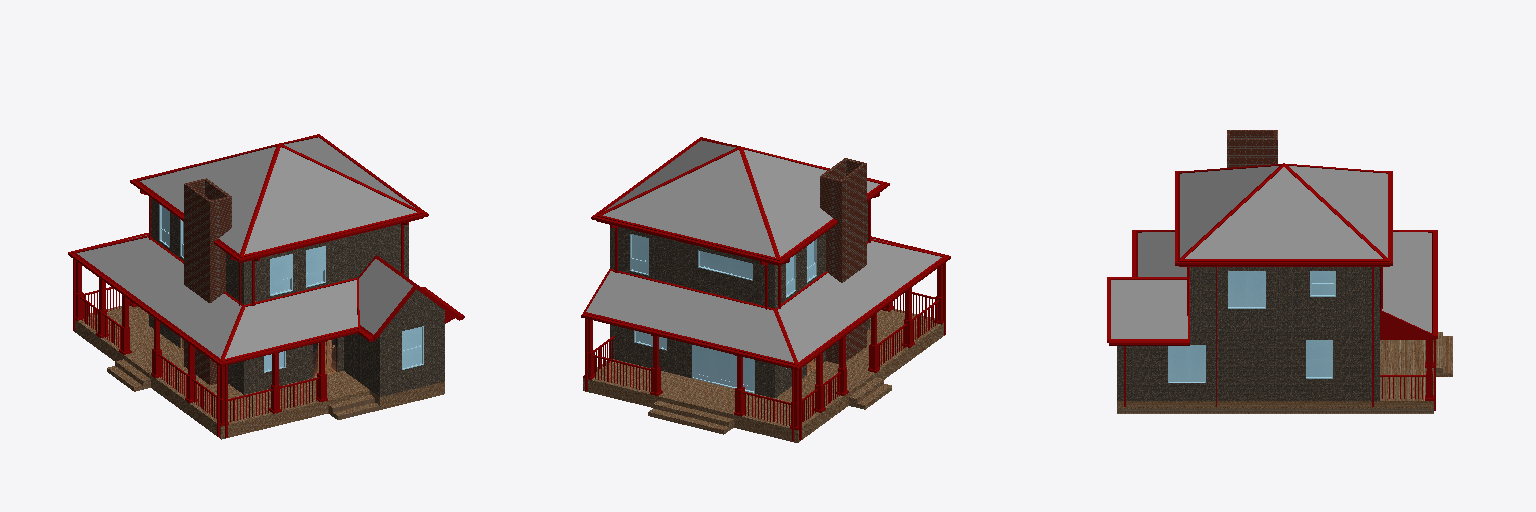
3 views of the same model, side by side, from view 1: azimuth 30°, elevation 25°; view 2: azimuth 150°, elevation 25°; view 3: azimuth 270°, elevation 25° (orthographic).
Visible parts, largest first — view 1: 247obj05, 247obj32, 247obj07, 247obj09, 247obj01, 247obj34, 247obj06, 247obj28, 247obj02, 247obj31, 247obj04, 247obj30 (+6 smaller); view 2: 247obj32, 247obj05, 247obj07, 247obj34, 247obj01, 247obj06, 247obj09, 247obj02, 247obj16, 247obj30, 247obj31, 247obj04 (+4 smaller); view 3: 247obj05, 247obj09, 247obj01, 247obj07, 247obj32, 247obj28, 247obj02, 247obj06, 247obj20, 247obj04, 247obj18, 247obj17 (+7 smaller).
Boxes of the visible parts, x1=… form: 247obj05: x1=140, y1=137, x2=416, y2=254; 247obj32: x1=77, y1=235, x2=357, y2=358; 247obj07: x1=74, y1=306, x2=444, y2=439; 247obj09: x1=149, y1=289, x2=444, y2=396; 247obj01: x1=151, y1=198, x2=408, y2=304; 247obj34: x1=75, y1=261, x2=327, y2=426; 247obj06: x1=184, y1=178, x2=231, y2=384; 247obj28: x1=359, y1=259, x2=412, y2=334; 247obj02: x1=135, y1=135, x2=423, y2=257; 247obj31: x1=72, y1=234, x2=359, y2=361; 247obj04: x1=130, y1=134, x2=428, y2=262; 247obj30: x1=68, y1=233, x2=357, y2=366; 247obj32: x1=586, y1=239, x2=941, y2=362; 247obj05: x1=603, y1=140, x2=879, y2=257; 247obj07: x1=583, y1=309, x2=944, y2=442; 247obj34: x1=583, y1=265, x2=943, y2=429; 247obj01: x1=610, y1=202, x2=867, y2=308; 247obj06: x1=820, y1=158, x2=866, y2=363; 247obj09: x1=610, y1=318, x2=869, y2=397; 247obj02: x1=596, y1=138, x2=884, y2=260; 247obj16: x1=692, y1=345, x2=754, y2=393; 247obj30: x1=581, y1=236, x2=950, y2=369; 247obj31: x1=583, y1=238, x2=945, y2=365; 247obj04: x1=591, y1=137, x2=889, y2=264; 247obj05: x1=1180, y1=166, x2=1387, y2=258; 247obj09: x1=1117, y1=332, x2=1379, y2=400; 247obj01: x1=1190, y1=267, x2=1379, y2=331; 247obj07: x1=1117, y1=340, x2=1433, y2=413; 247obj32: x1=1138, y1=232, x2=1431, y2=332; 247obj28: x1=1111, y1=280, x2=1187, y2=338; 247obj02: x1=1178, y1=163, x2=1389, y2=261; 247obj06: x1=1227, y1=130, x2=1277, y2=167; 247obj20: x1=1228, y1=271, x2=1265, y2=308; 247obj04: x1=1175, y1=171, x2=1392, y2=265; 247obj18: x1=1168, y1=345, x2=1205, y2=382; 247obj17: x1=1306, y1=340, x2=1332, y2=378.
Size of the model in its own units: 358 by 292 by 436.
9 materials, 5 textured.